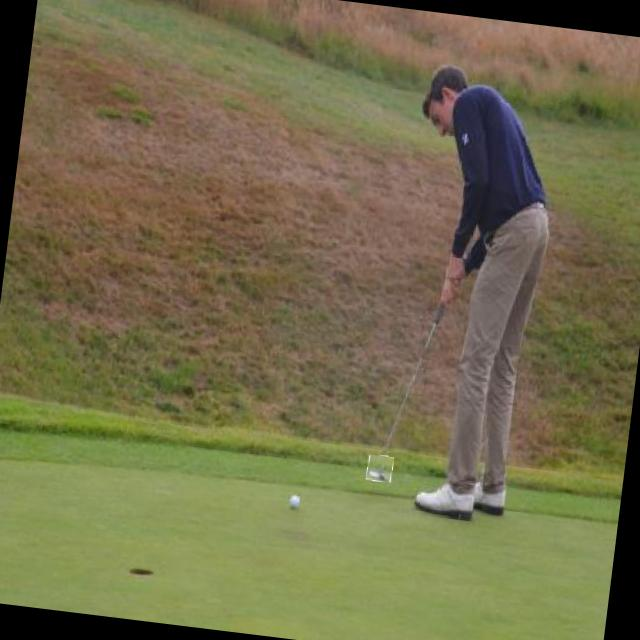club head: (365, 454, 394, 483)
